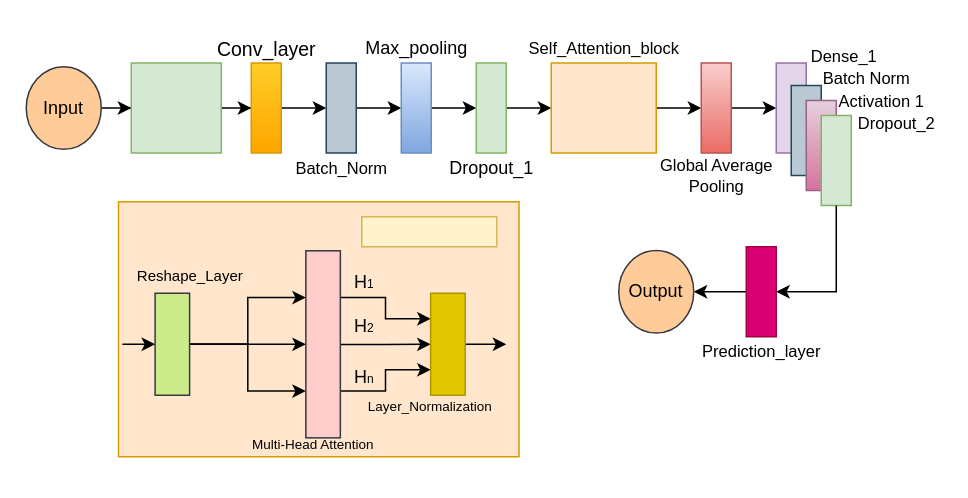
Image size: 968x498. Some labels were removed from this diagram. The shapes that lost their labels are listed below. From the top down, each one's centre as x and y in pixels, then its label:
At point (175, 107): "Xception".
At point (428, 231): "Self-Attention Block".
